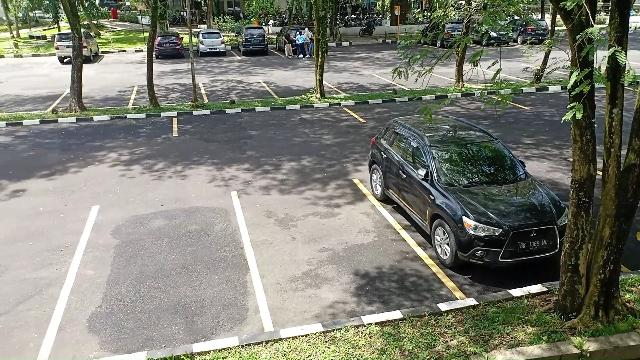empty: (73, 188, 245, 350), (240, 188, 396, 326), (172, 106, 358, 138), (57, 87, 136, 111), (130, 82, 206, 106), (203, 80, 269, 103), (331, 72, 395, 94), (268, 79, 330, 99), (96, 45, 148, 65)
occupied: (386, 146, 564, 292), (234, 29, 274, 59)
